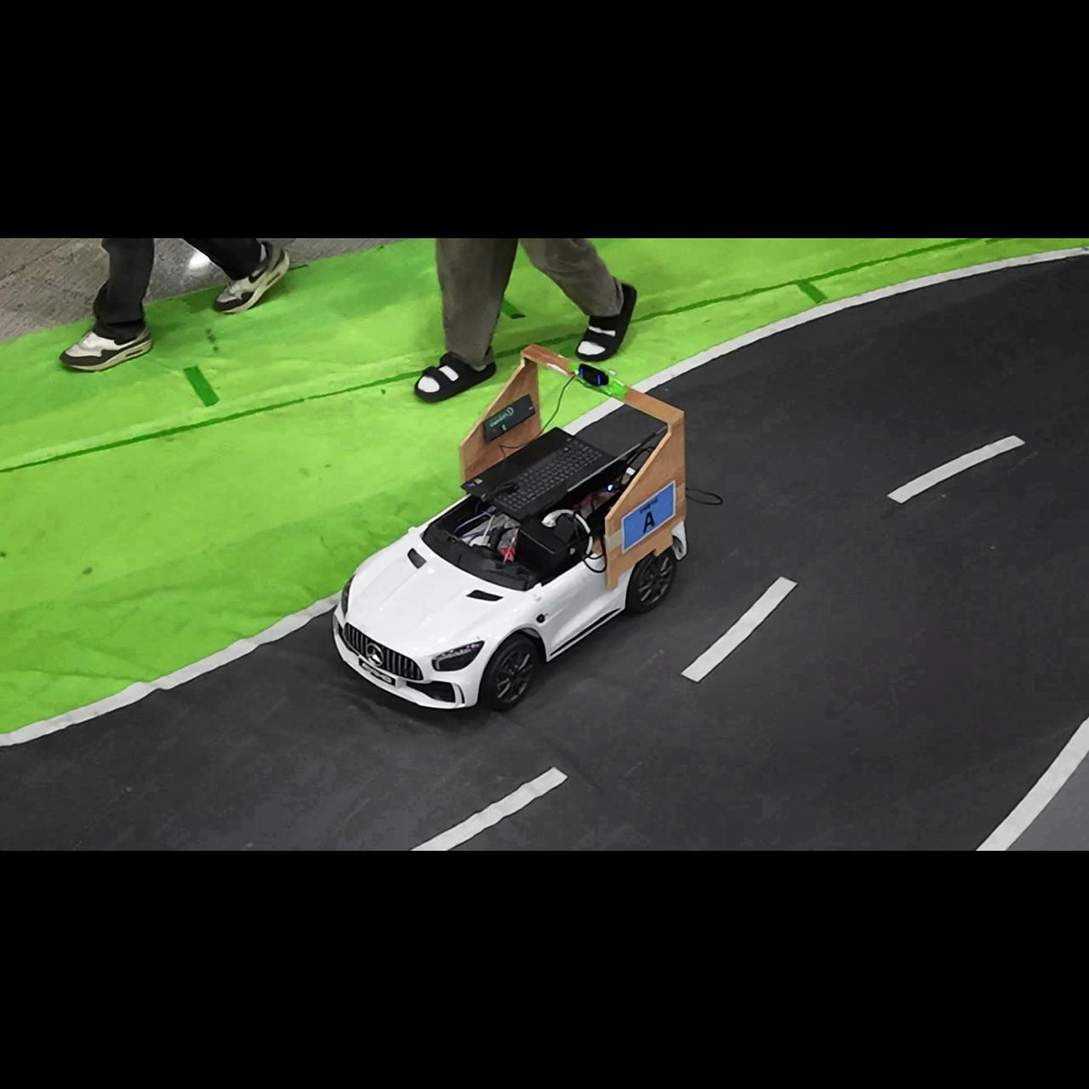broken_line: (410, 766, 568, 850), (680, 576, 798, 682), (887, 435, 1026, 504)
